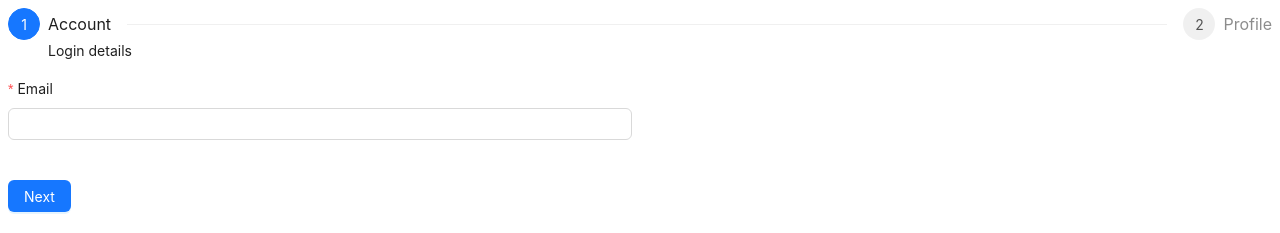
Test: FormRenderer steps wizard › Next validates ONLY the current step and blocks on an invalid required field
Click the button "Next".
click(39, 196)  # box [8,180,71,212]
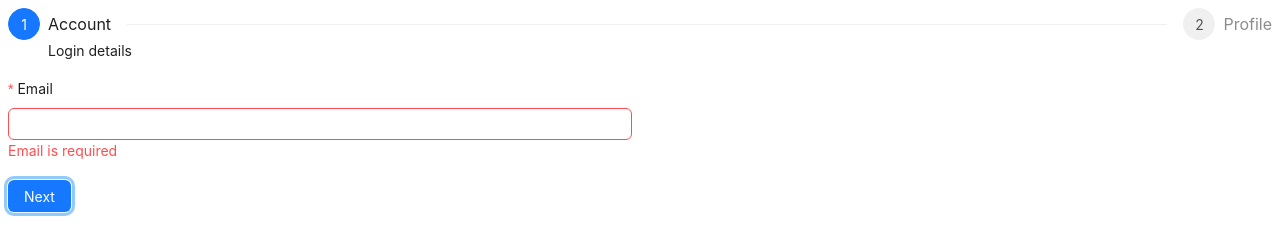
Now the text "Email is required" is shown, box [8,142,117,159]
